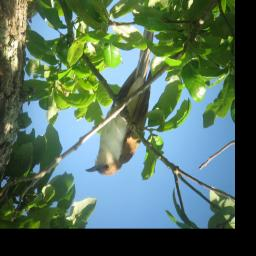Cuckoo: (82, 22, 157, 177)
